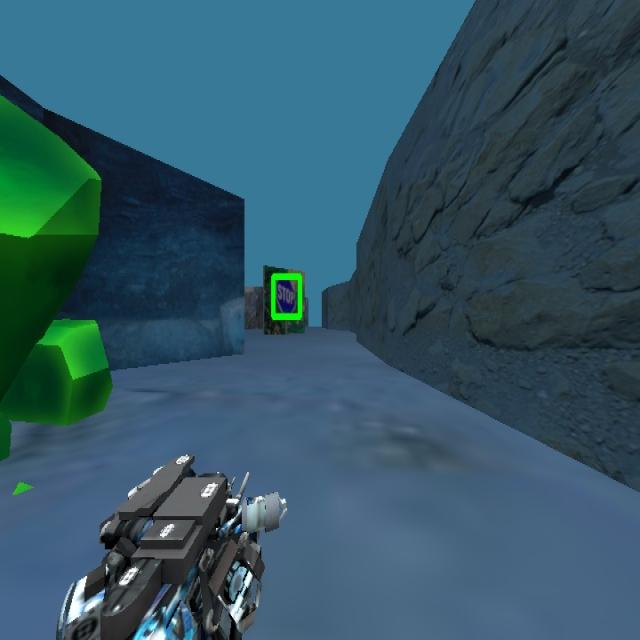Diamon: (0, 39, 130, 441)
Stop_Sign: (269, 270, 303, 322)
